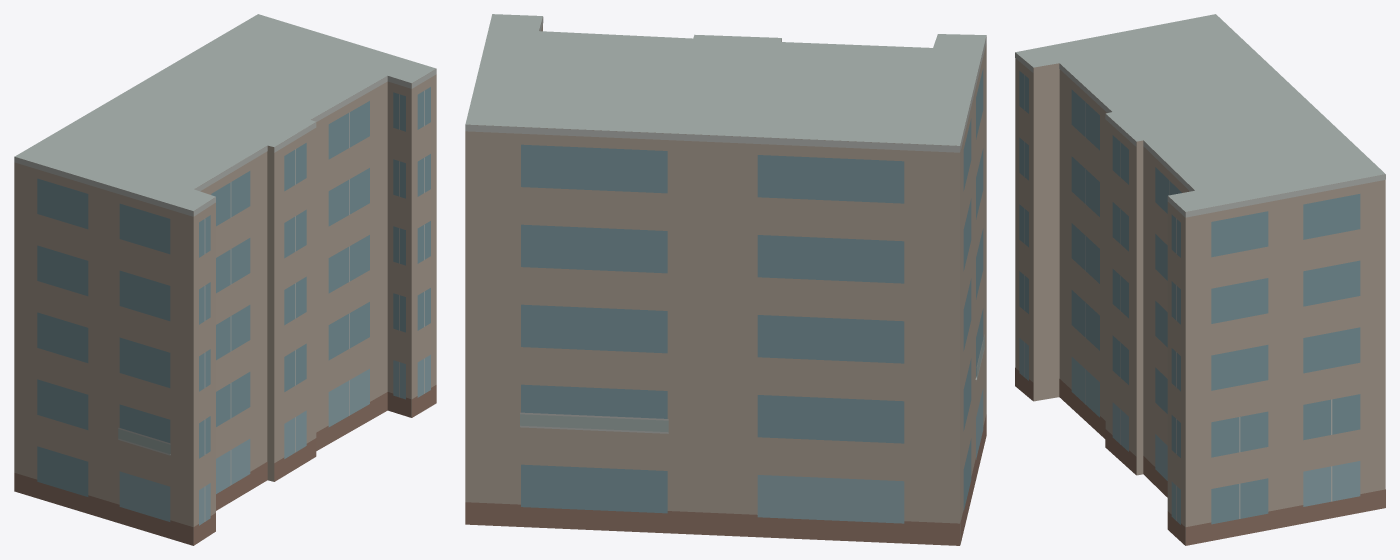
The model's file is survey-upis-32699384.glb.
3 views of the same model, side by side, from view 1: azimuth 30°, elevation 25°; view 2: azimuth 150°, elevation 25°; view 3: azimuth 270°, elevation 25° (orthographic). The views are drawn at different scales.
Visible parts, largest first — view 1: survey-upis-32699384.tmp; view 2: survey-upis-32699384.tmp; view 3: survey-upis-32699384.tmp.
Part boxes in pixels (x1=…): survey-upis-32699384.tmp: x1=14, y1=14, x2=436, y2=545; survey-upis-32699384.tmp: x1=465, y1=14, x2=986, y2=545; survey-upis-32699384.tmp: x1=1015, y1=14, x2=1385, y2=545.
Bounding box in the file's own units: 18.2 × 14.3 × 14.4.
